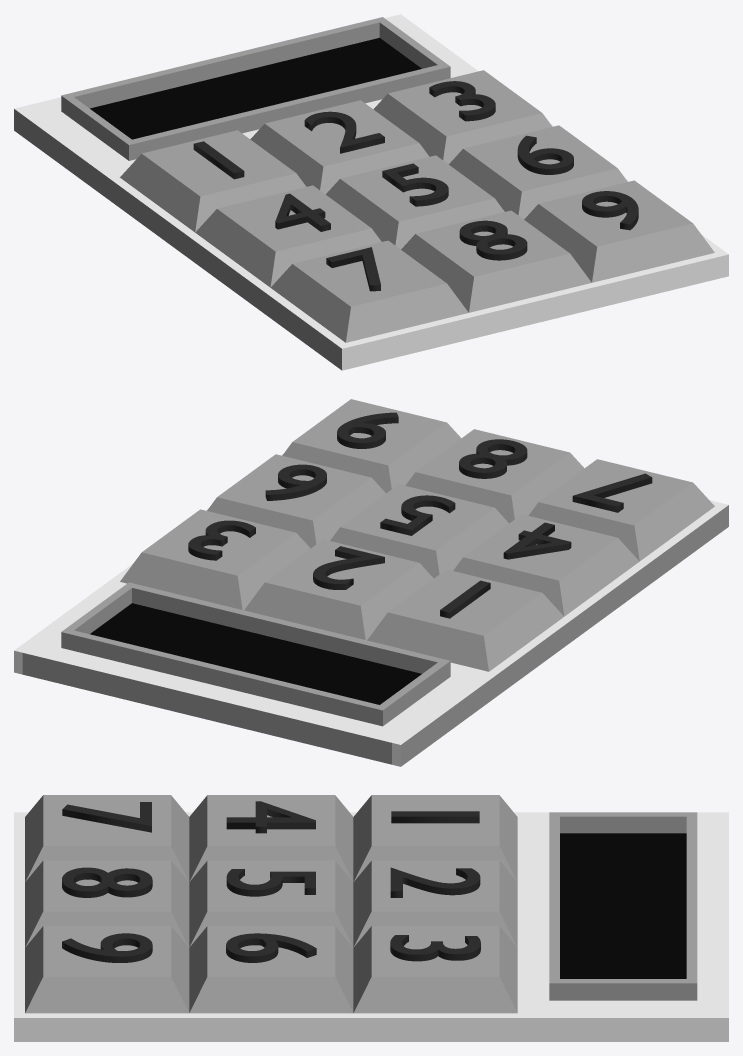
The model's file is panelchiffres.fbx.
The picture shows the model from 3 angles, top to bottom: view 1: azimuth 30°, elevation 25°; view 2: azimuth 150°, elevation 25°; view 3: azimuth 270°, elevation 25°; orthographic projection. The views are drawn at different scales.
Parts seen in each view (by area): view 1: pavet, chiffre_7, chiffre_9, chiffre_8, chiffre_1, chiffre_6, chiffre_2, chiffre_3, chiffre_5, chiffre_4; view 2: pavet, chiffre_1, chiffre_3, chiffre_2, chiffre_7, chiffre_6, chiffre_8, chiffre_4, chiffre_9, chiffre_5; view 3: pavet, chiffre_3, chiffre_9, chiffre_4, chiffre_2, chiffre_5, chiffre_1, chiffre_6, chiffre_8, chiffre_7.
Part boxes in pixels (x1=…): pavet: x1=14, y1=14, x2=728, y2=370; chiffre_7: x1=270, y1=240, x2=468, y2=342; chiffre_9: x1=524, y1=180, x2=714, y2=282; chiffre_8: x1=401, y1=210, x2=591, y2=312; chiffre_1: x1=120, y1=130, x2=306, y2=232; chiffre_6: x1=195, y1=185, x2=381, y2=287; chiffre_2: x1=250, y1=100, x2=429, y2=194; chiffre_3: x1=373, y1=70, x2=552, y2=164; chiffre_5: x1=326, y1=155, x2=504, y2=249; chiffre_4: x1=449, y1=125, x2=627, y2=219; pavet: x1=14, y1=453, x2=728, y2=766; chiffre_1: x1=367, y1=569, x2=564, y2=671; chiffre_3: x1=120, y1=509, x2=310, y2=610; chiffre_2: x1=244, y1=539, x2=433, y2=640; chiffre_7: x1=528, y1=459, x2=714, y2=561; chiffre_6: x1=453, y1=514, x2=639, y2=616; chiffre_8: x1=405, y1=429, x2=584, y2=523; chiffre_4: x1=207, y1=454, x2=385, y2=548; chiffre_9: x1=282, y1=399, x2=461, y2=493; chiffre_5: x1=330, y1=484, x2=508, y2=578; pavet: x1=14, y1=812, x2=728, y2=1041; chiffre_3: x1=353, y1=926, x2=517, y2=1013; chiffre_9: x1=25, y1=926, x2=189, y2=1013; chiffre_4: x1=189, y1=926, x2=353, y2=1013; chiffre_2: x1=353, y1=860, x2=517, y2=947; chiffre_5: x1=189, y1=860, x2=353, y2=947; chiffre_1: x1=353, y1=795, x2=517, y2=881; chiffre_6: x1=189, y1=795, x2=353, y2=881; chiffre_8: x1=25, y1=860, x2=189, y2=947; chiffre_7: x1=25, y1=795, x2=189, y2=881.
Bounding box in the file's own units: 219 × 29.55 × 322.
1 material, 1 textured.
